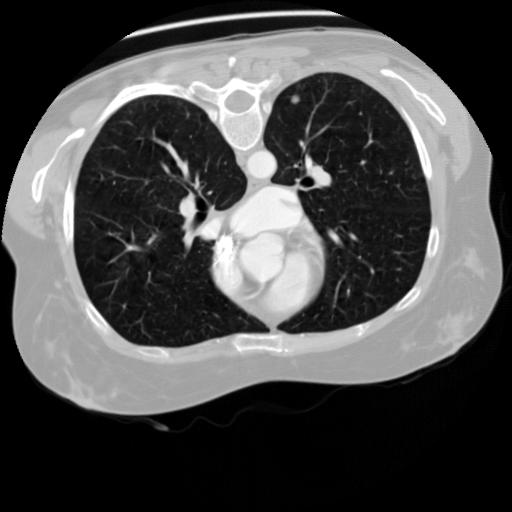nodule: (286, 93, 302, 109)
